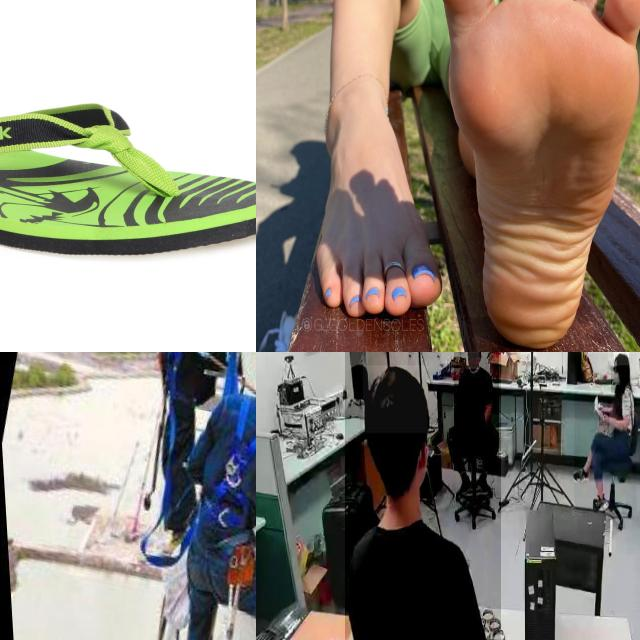Barefoots: (434, 0, 640, 352), (308, 106, 452, 332)
Harness: (200, 390, 256, 532)
Sandals: (0, 100, 256, 257)
face_mask: (611, 366, 625, 393)
face_nomask: (466, 352, 479, 369)
hand_noglove: (599, 412, 610, 426)
head_nohelmet: (363, 365, 428, 434), (614, 352, 630, 366)
person: (344, 352, 501, 640), (575, 354, 637, 514), (454, 352, 499, 471)
shoes: (475, 470, 496, 499), (454, 472, 474, 499), (572, 460, 592, 486), (592, 492, 614, 515)
